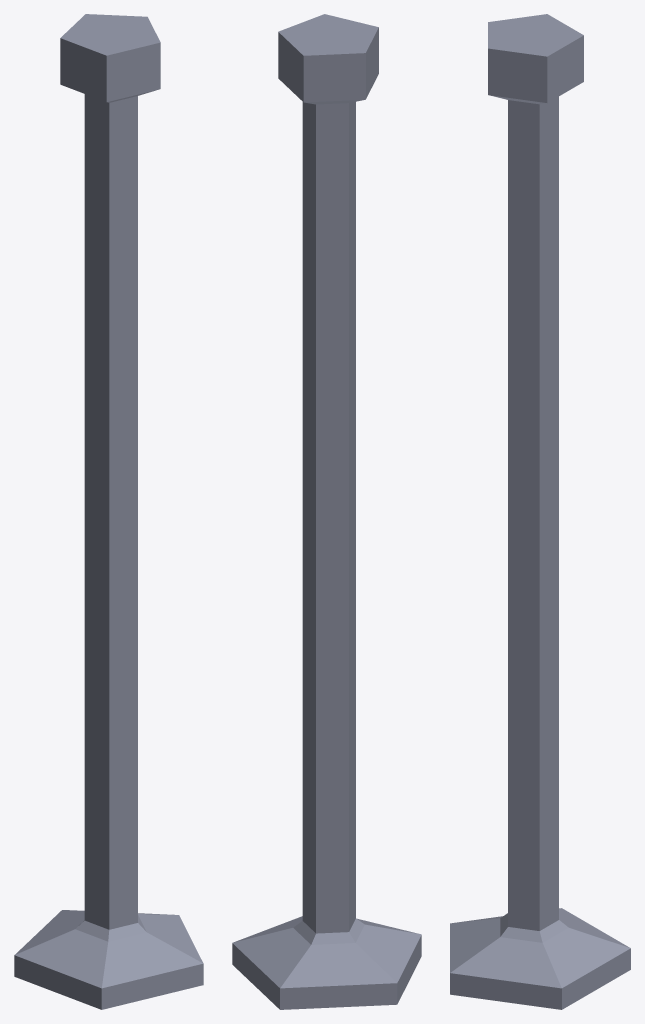
The model's file is StandStillTorch.fbx.
The picture shows the model from 3 angles, left to right: view 1: azimuth 30°, elevation 25°; view 2: azimuth 150°, elevation 25°; view 3: azimuth 270°, elevation 25°; orthographic projection.
Visible parts, largest first — view 1: Cylinder; view 2: Cylinder; view 3: Cylinder.
Boxes of the visible parts, x1,y1,x2,y2 form: Cylinder: [14, 14, 203, 1009]; Cylinder: [232, 14, 421, 1009]; Cylinder: [450, 14, 630, 1009].
Bounding box in the file's own units: 36.33 × 197 × 34.55.
